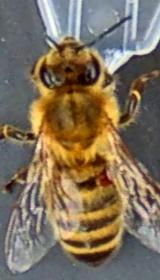varroa_mite: (87, 159, 123, 192)
